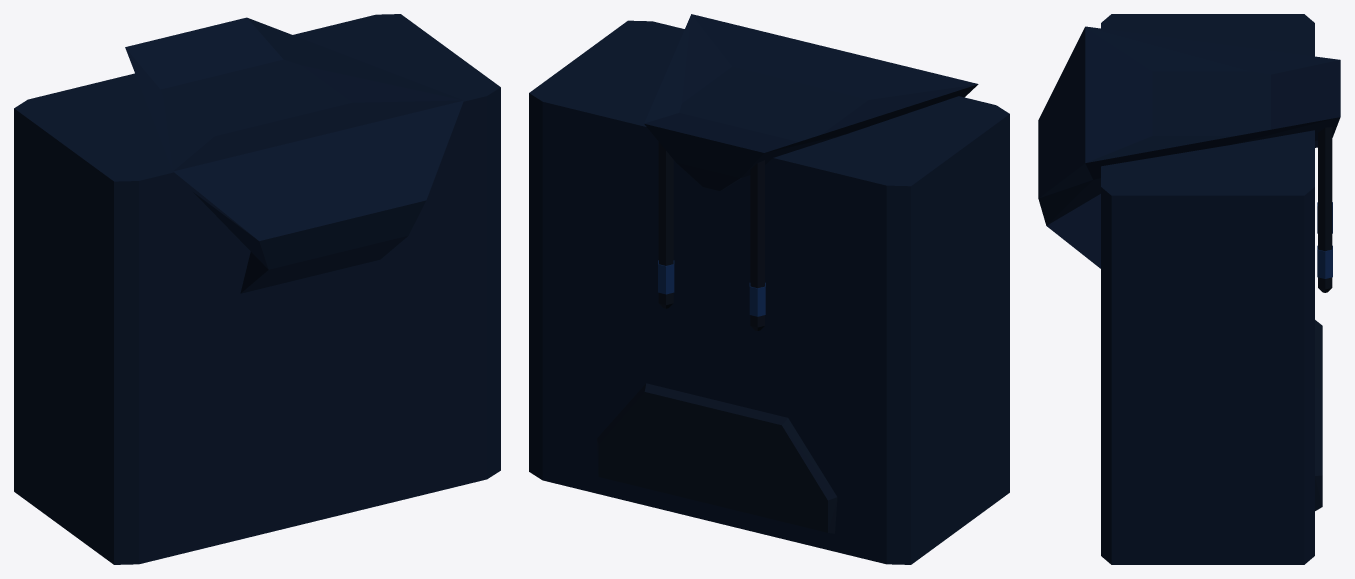
File: torso.obj
The picture shows the model from 3 angles, left to right: view 1: azimuth 30°, elevation 25°; view 2: azimuth 150°, elevation 25°; view 3: azimuth 270°, elevation 25°; orthographic projection. The views are drawn at different scales.
Parts seen in each view (by area): view 1: Meshpart4, Meshpart5; view 2: Meshpart4, Meshpart5, Meshpart1, Meshpart3, Meshpart2; view 3: Meshpart4, Meshpart5, Meshpart3, Meshpart1, Meshpart2.
Part boxes in pixels (x1,y1,x2,y2): Meshpart4: (14, 14, 500, 564); Meshpart5: (125, 17, 463, 293); Meshpart4: (529, 20, 1009, 564); Meshpart5: (644, 14, 978, 190); Meshpart1: (597, 383, 837, 533); Meshpart3: (658, 142, 764, 330); Meshpart2: (658, 260, 765, 316); Meshpart4: (1101, 14, 1314, 564); Meshpart5: (1038, 26, 1340, 268); Meshpart3: (1318, 127, 1332, 292); Meshpart1: (1315, 320, 1322, 510); Meshpart2: (1317, 202, 1332, 278).
Bounding box in the file's own units: 2.15 × 2.12 × 1.51.
